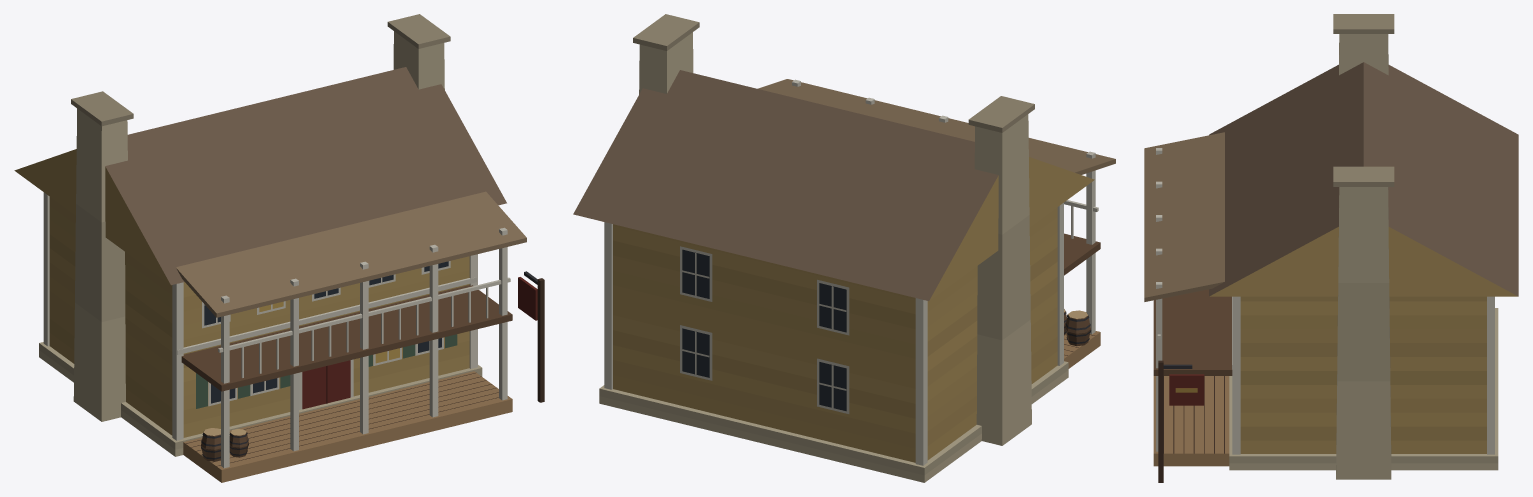
Rendered from tavern.glb.
The picture shows the model from 3 angles, left to right: view 1: azimuth 30°, elevation 25°; view 2: azimuth 150°, elevation 25°; view 3: azimuth 270°, elevation 25°; orthographic projection. The views are drawn at different scales.
Visible parts, largest first — view 1: tavern; view 2: tavern; view 3: tavern.
Boxes of the visible parts, x1,y1,x2,y2 form: tavern: (14, 14, 544, 482); tavern: (573, 14, 1115, 482); tavern: (1144, 14, 1518, 482).
Bounding box in the file's own units: 10.97 × 8.92 × 10.15.
